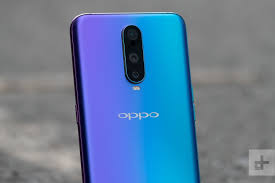oppo: (63, 4, 201, 183)
